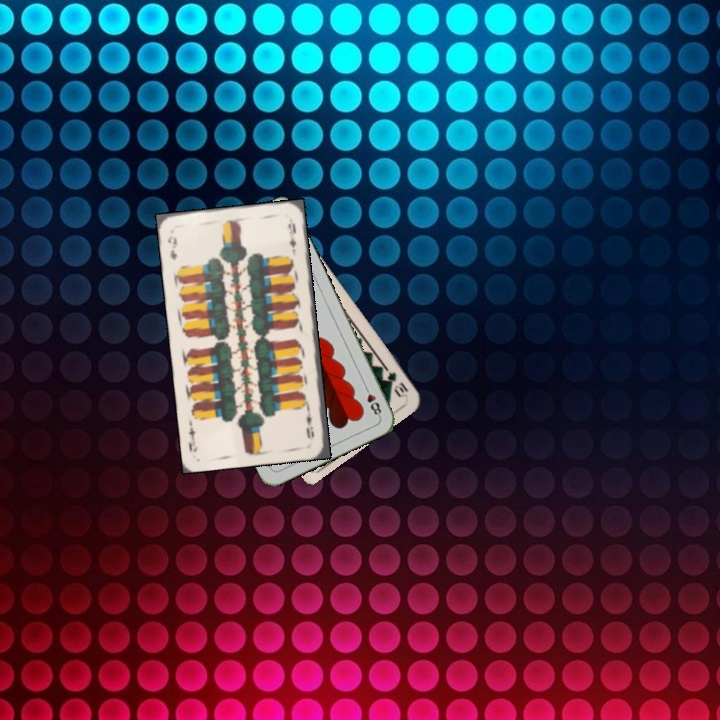E9: (302, 403, 316, 443), (164, 232, 180, 262)
G10: (383, 368, 411, 400)
H8: (360, 381, 384, 419)
